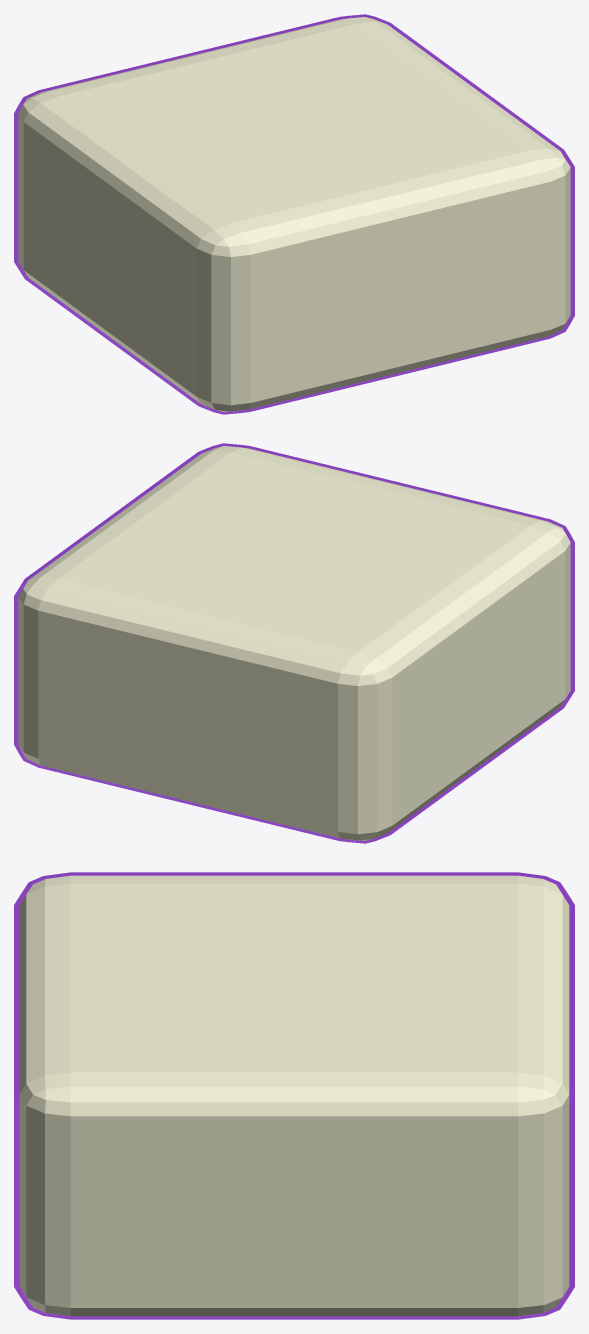
File: quadrado bolo.glb
The picture shows the model from 3 angles, top to bottom: view 1: azimuth 30°, elevation 25°; view 2: azimuth 150°, elevation 25°; view 3: azimuth 270°, elevation 25°; orthographic projection. The views are drawn at different scales.
Parts seen in each view (by area): view 1: Cube.003; view 2: Cube.003; view 3: Cube.003.
Part boxes in pixels (box(x1,y1,x2,y2)): Cube.003: box(14, 14, 574, 414); Cube.003: box(14, 443, 574, 843); Cube.003: box(14, 872, 574, 1319).
Bounding box in the file's own units: 21.22 × 10.02 × 21.22.
